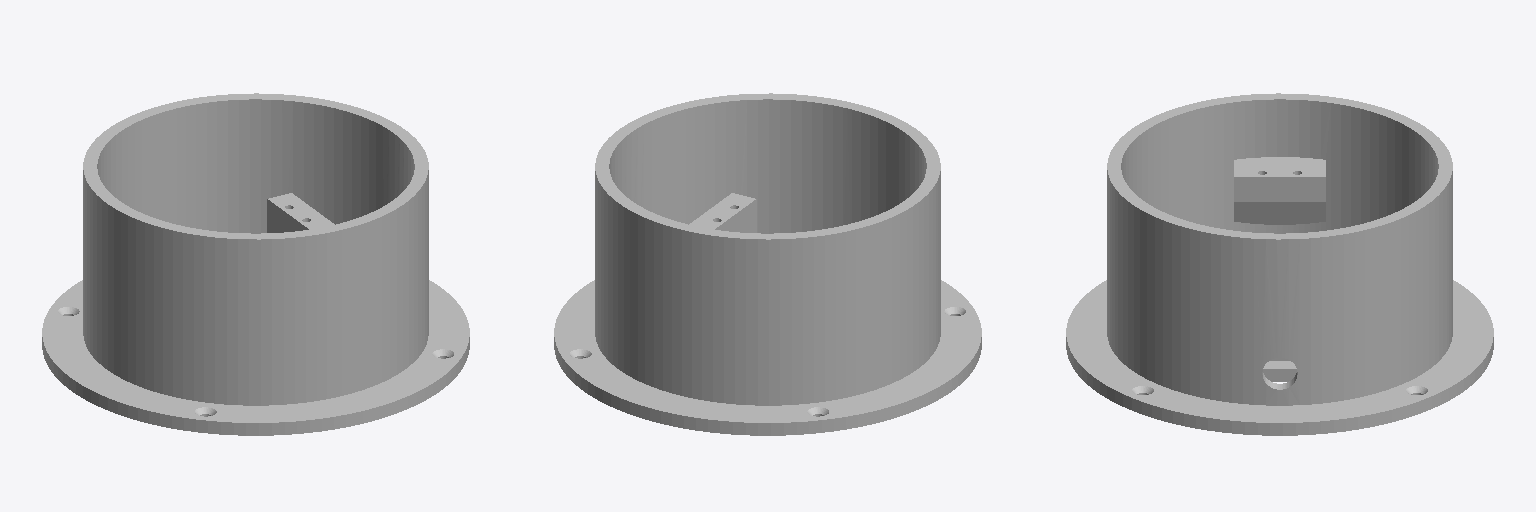
Rendered from base_arm_obj.obj.
3 renders of one model, left to right at view 1: azimuth 30°, elevation 25°; view 2: azimuth 150°, elevation 25°; view 3: azimuth 270°, elevation 25°, orthographic.
Visible parts, largest first — view 1: fabconvert.com_base; view 2: fabconvert.com_base; view 3: fabconvert.com_base.
Boxes of the visible parts, <box> form: fabconvert.com_base: <box>42,93,469,435</box>; fabconvert.com_base: <box>554,93,981,435</box>; fabconvert.com_base: <box>1066,93,1493,435</box>.
Bounding box in the file's own units: 1.53 × 0.706 × 1.53.